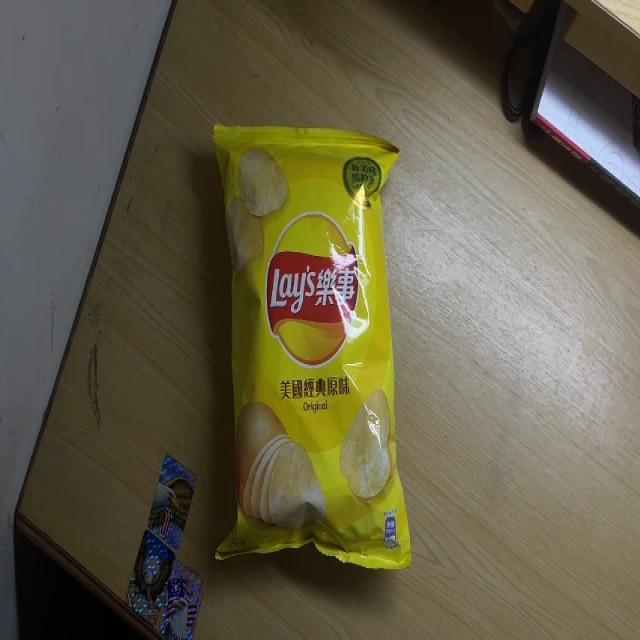Lay-s-original: (212, 122, 411, 571)
